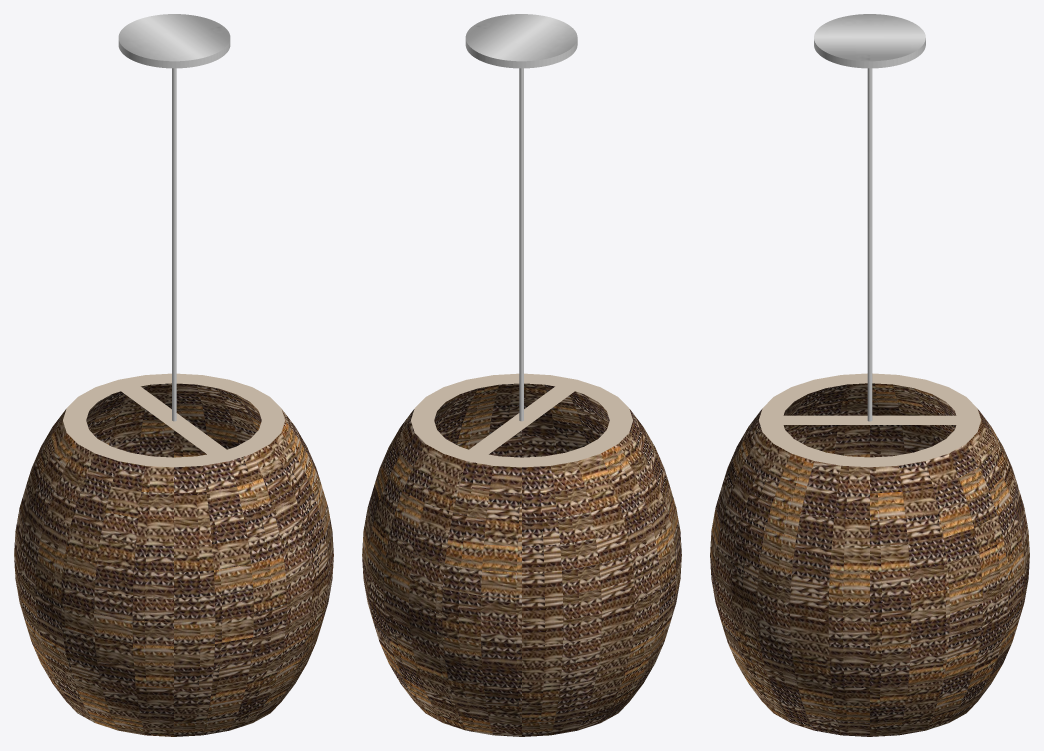
Rendered from beehive_pendant_light.glb.
The picture shows the model from 3 angles, left to right: view 1: azimuth 30°, elevation 25°; view 2: azimuth 150°, elevation 25°; view 3: azimuth 270°, elevation 25°; orthographic projection.
Parts seen in each view (by area): view 1: Material2 (×6); view 2: Material2 (×6); view 3: Material2 (×6).
Part boxes in pixels (x1,y1,x2,y2): Material2 (×6): (14, 14, 333, 736); Material2 (×6): (362, 14, 681, 736); Material2 (×6): (710, 14, 1029, 736).
Bounding box in the file's own units: 12.91 × 29.06 × 12.91.
5 materials, 2 textured.
